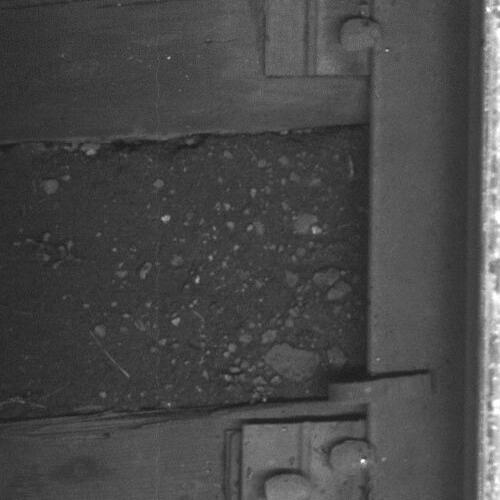crutch: (327, 367, 440, 405)
tie_wood: (1, 1, 370, 144)
